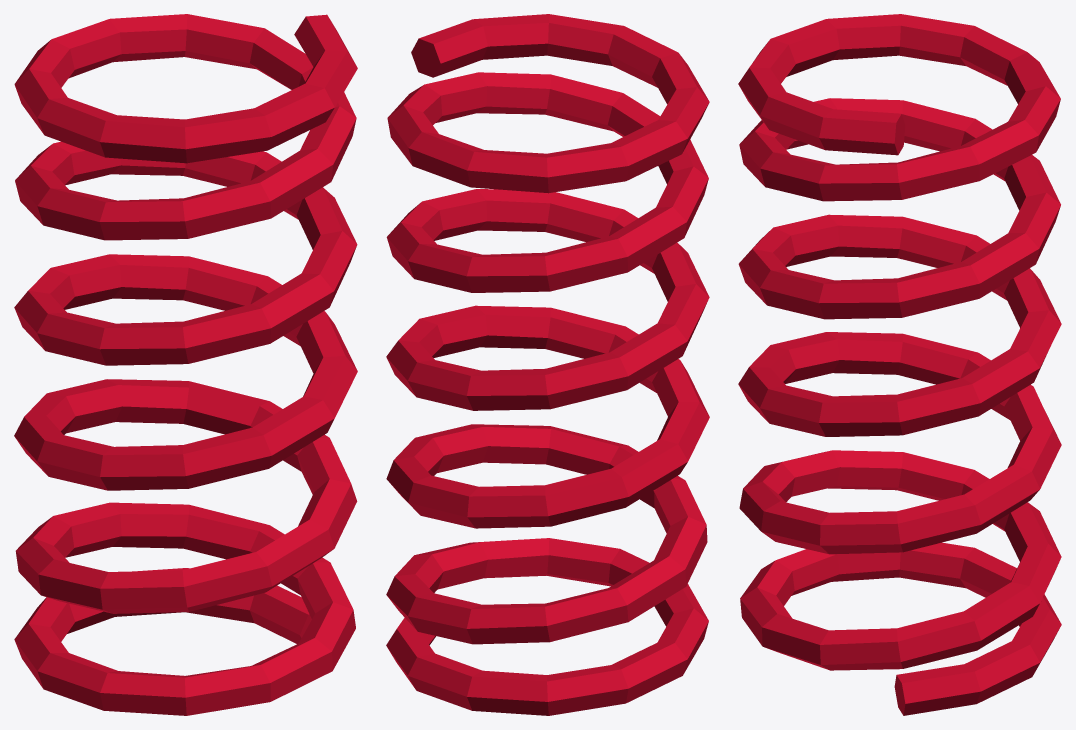
The model's file is item-springs.glb.
The picture shows the model from 3 angles, left to right: view 1: azimuth 30°, elevation 25°; view 2: azimuth 150°, elevation 25°; view 3: azimuth 270°, elevation 25°; orthographic projection. The views are drawn at different scales.
Visible parts, largest first — view 1: springs; view 2: springs; view 3: springs.
Boxes of the visible parts, <box> form: springs: <box>14,14,357,715</box>; springs: <box>386,14,709,715</box>; springs: <box>738,14,1061,715</box>.
Bounding box in the file's own units: 0.147 × 0.2976 × 0.147.
